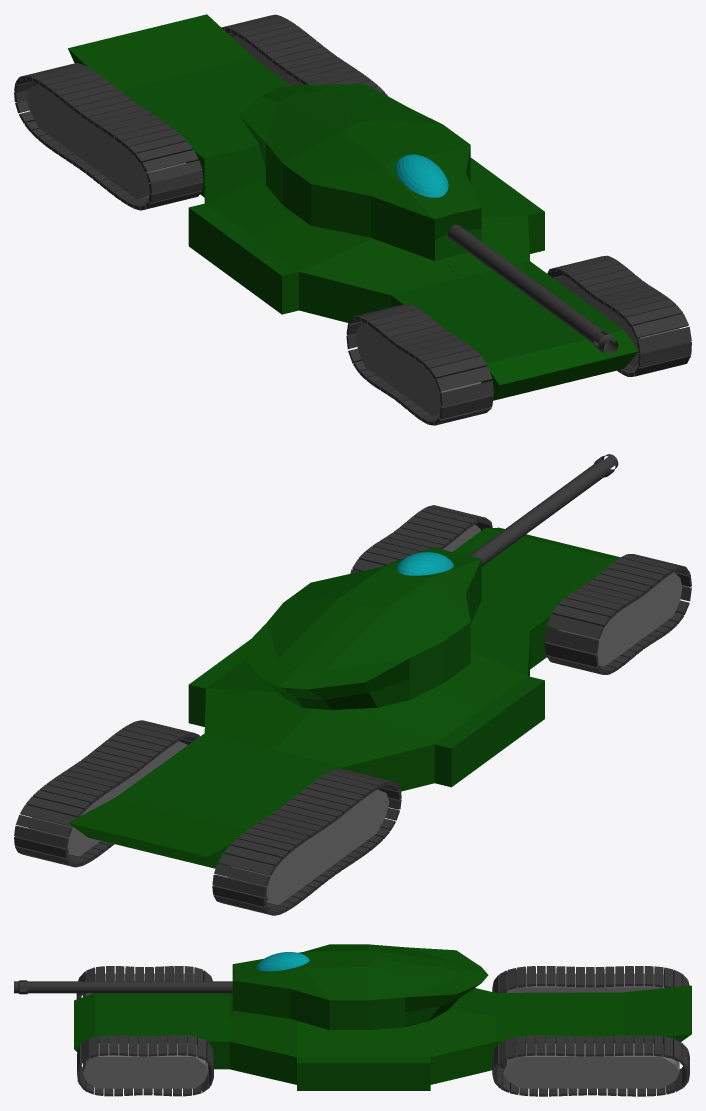
The model's file is Tank.fbx.
3 renders of one model, top to bottom at view 1: azimuth 30°, elevation 25°; view 2: azimuth 150°, elevation 25°; view 3: azimuth 270°, elevation 25°, orthographic. The views are drawn at different scales.
Parts seen in each view (by area): view 1: Tank_Body, Tank_Turret_Body, Tank_Track.002, Tank_Track.003, Tank_Track.004, Tank_Track_Middle.002, Tank_Track.001, Tank_Track_Middle.003, Tank_Turret_Barrel, Tank_Turret_CockPit, Tank_Track_Middle.004, Tank_Track_Middle.001; view 2: Tank_Body, Tank_Turret_Body, Tank_Track.002, Tank_Track.001, Tank_Track.003, Tank_Track_Middle.002, Tank_Track.004, Tank_Track_Middle.003, Tank_Turret_Barrel, Tank_Track_Middle.001, Tank_Turret_CockPit; view 3: Tank_Body, Tank_Turret_Body, Tank_Track.001, Tank_Track_Middle.001, Tank_Track_Middle.004, Tank_Track.004, Tank_Track.002, Tank_Turret_Barrel, Tank_Track.003, Tank_Track_Middle.002, Tank_Turret_CockPit.
Boxes of the visible parts, <box> form: Tank_Body: <box>68,14,638,400</box>; Tank_Turret_Body: <box>239,84,481,260</box>; Tank_Track.002: <box>14,63,203,210</box>; Tank_Track.003: <box>346,304,493,425</box>; Tank_Track.004: <box>547,255,691,376</box>; Tank_Track_Middle.002: <box>26,84,185,199</box>; Tank_Track.001: <box>221,14,387,95</box>; Tank_Track_Middle.003: <box>356,323,481,417</box>; Tank_Turret_Barrel: <box>447,224,618,354</box>; Tank_Turret_CockPit: <box>395,154,448,197</box>; Tank_Track_Middle.004: <box>557,274,679,368</box>; Tank_Track_Middle.001: <box>232,35,303,85</box>; Tank_Body: <box>68,527,620,868</box>; Tank_Turret_Body: <box>239,547,481,709</box>; Tank_Track.002: <box>212,768,401,915</box>; Tank_Track.001: <box>14,720,199,867</box>; Tank_Track.003: <box>544,554,691,674</box>; Tank_Track_Middle.002: <box>227,789,389,905</box>; Tank_Track.004: <box>350,505,492,573</box>; Tank_Track_Middle.003: <box>557,572,682,666</box>; Tank_Turret_Barrel: <box>469,454,618,566</box>; Tank_Track_Middle.001: <box>28,741,187,856</box>; Tank_Turret_CockPit: <box>396,552,453,575</box>; Tank_Body: <box>74,985,691,1090</box>; Tank_Turret_Body: <box>232,944,488,1029</box>; Tank_Track.001: <box>492,1035,689,1096</box>; Tank_Track_Middle.001: <box>502,1043,679,1088</box>; Tank_Track_Middle.004: <box>83,1043,207,1088</box>; Tank_Track.004: <box>77,1035,213,1096</box>; Tank_Track.002: <box>492,966,689,992</box>; Tank_Turret_Barrel: <box>14,980,232,994</box>; Tank_Track.003: <box>76,966,212,999</box>; Tank_Track_Middle.002: <box>504,973,664,992</box>; Tank_Turret_CockPit: <box>256,952,309,971</box>.
Bounding box in the file's own units: 749 × 375 × 2336.
